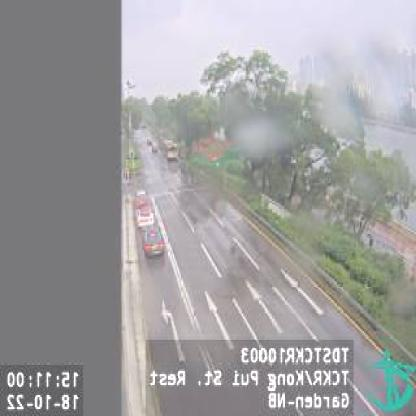Bus: (160, 137, 178, 163)
Car: (142, 222, 163, 261), (133, 188, 148, 206)
